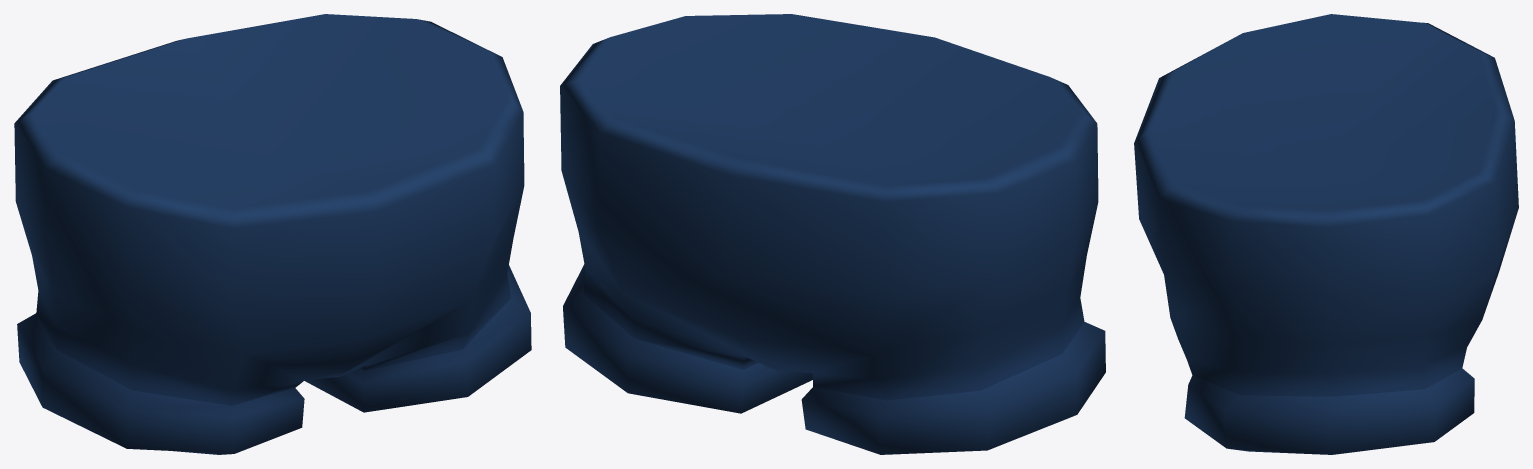
File: Bottom_4.fbx
The picture shows the model from 3 angles, left to right: view 1: azimuth 30°, elevation 25°; view 2: azimuth 150°, elevation 25°; view 3: azimuth 270°, elevation 25°; orthographic projection. The views are drawn at different scales.
Visible parts, largest first — view 1: Bottom_4; view 2: Bottom_4; view 3: Bottom_4.
Boxes of the visible parts, x1,y1,x2,y2 form: Bottom_4: (14,14,531,454); Bottom_4: (560,14,1105,454); Bottom_4: (1134,14,1518,454).
Size of the model in its own units: 38.94 by 22.89 by 29.68.
